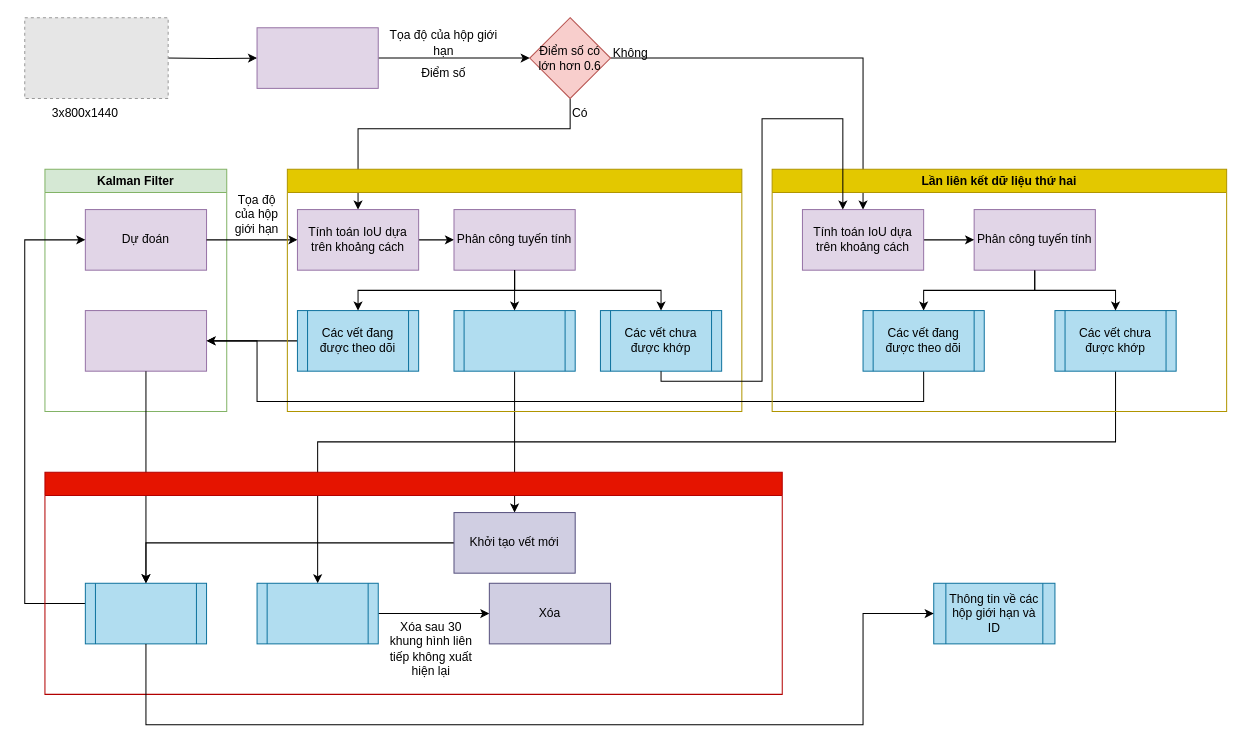
Some shapes in this 1244 by 750 pixel diagram are drawn without their labels. Grey dashed boxes stand in for pictures. Each missing label, with the box of its shape:
Bộ phát hiện YOLOX: (256, 27, 378, 88)
Các phát hiện chưa được theo dõi: (453, 310, 575, 371)
Cập nhật: (84, 310, 207, 371)
Danh sách các vết bị mất: (256, 582, 378, 644)
Danh sách các vết đang được theo dõi: (84, 582, 207, 644)
Lần liên kết dữ liệu đầu tiên: (286, 168, 742, 412)
Quản lý vết: (44, 471, 782, 694)
